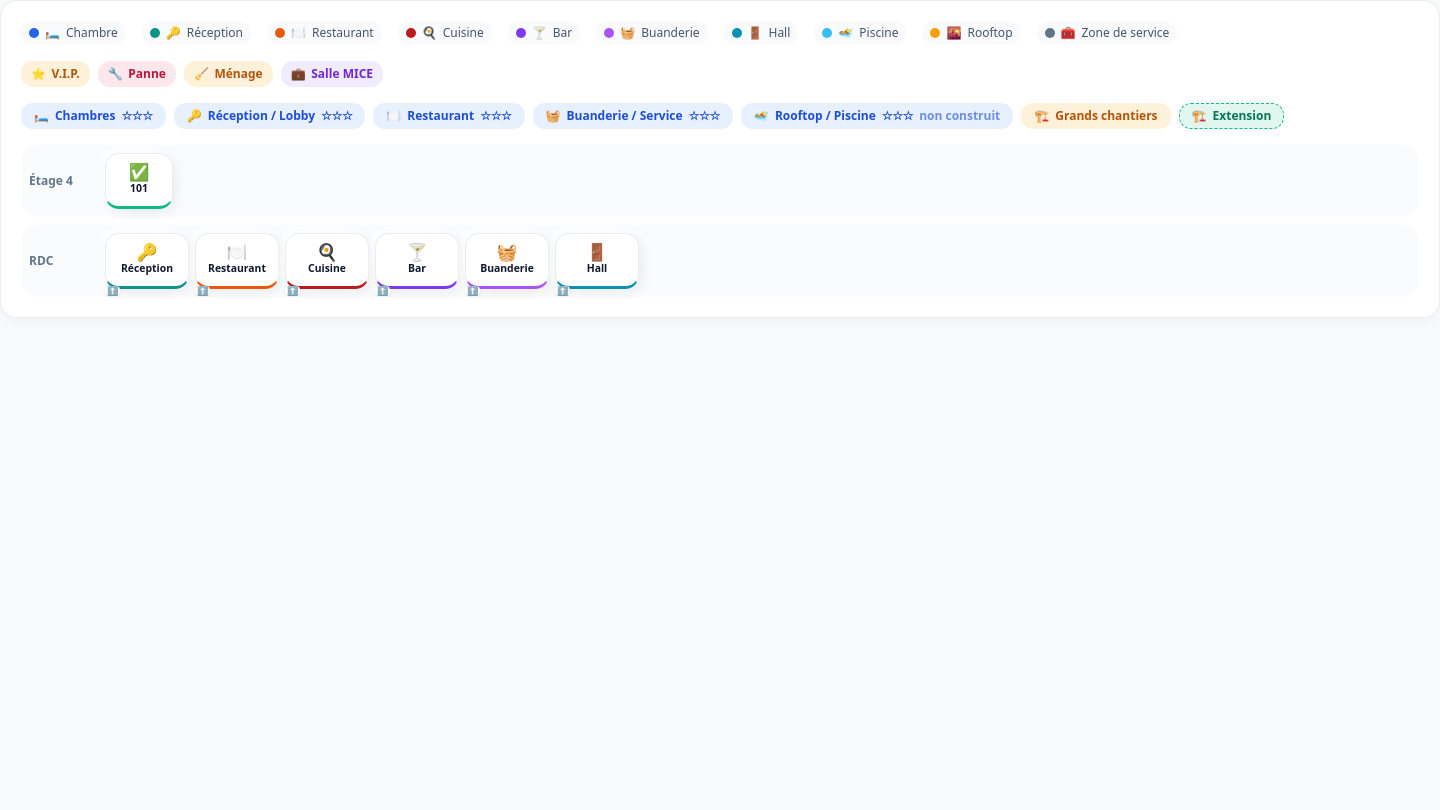
Scenario: SchematicHotelView / opening the expansion modal › closing removes it
Click the button with test id "schematic-expansion": [1232, 116] box [1179,103,1284,129]
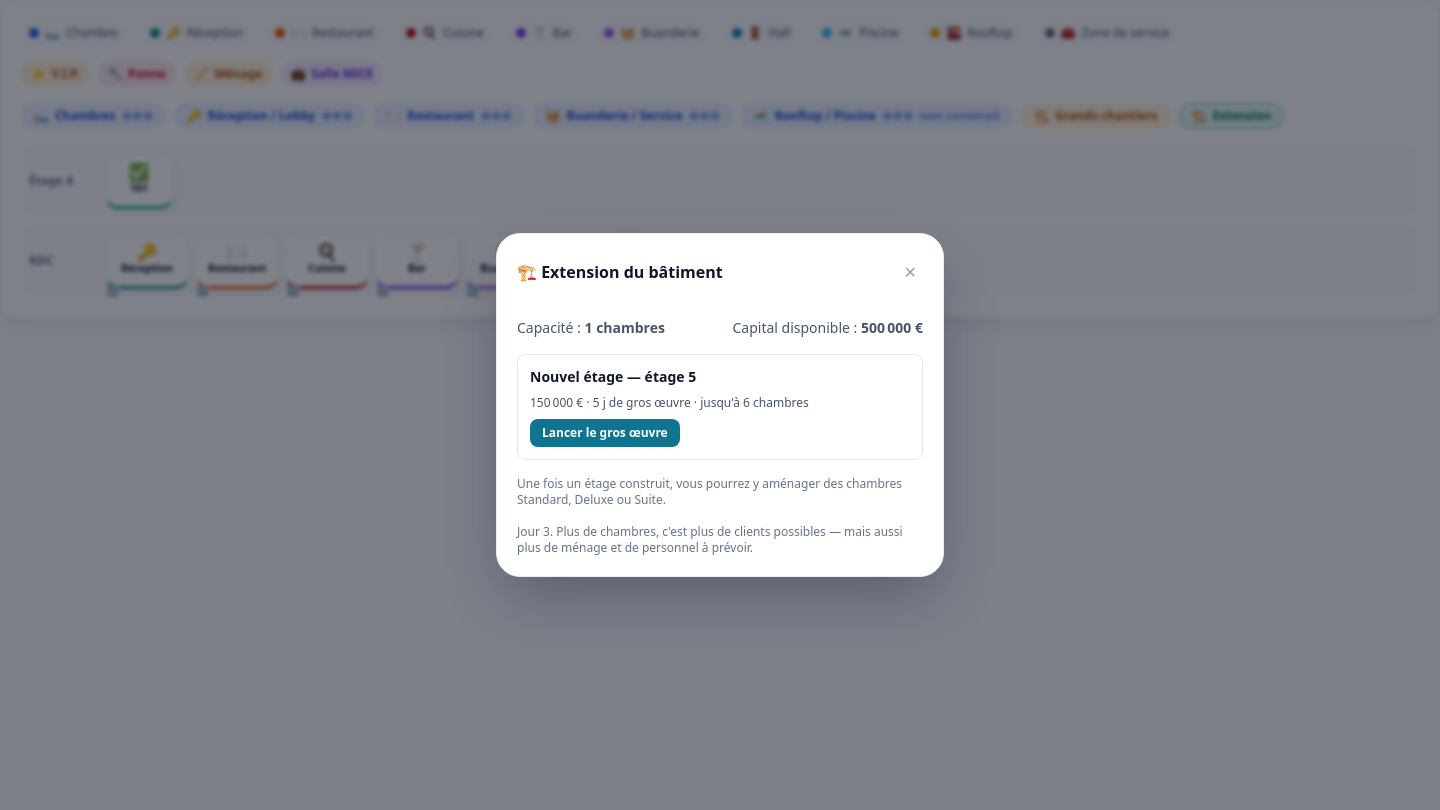
Click the button named "fermer": [910, 272] box [898,254,923,290]
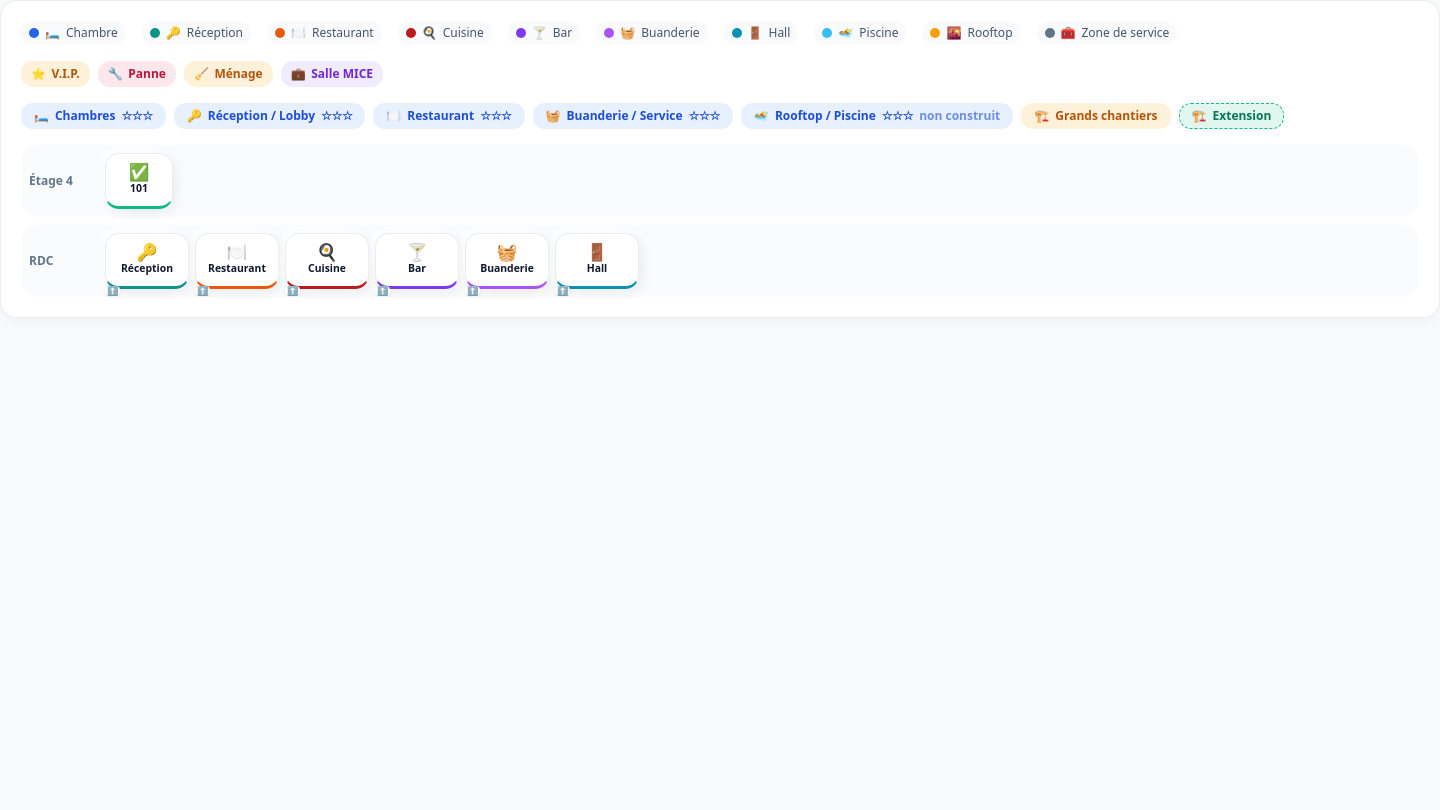
Expected: the dialog is gone
